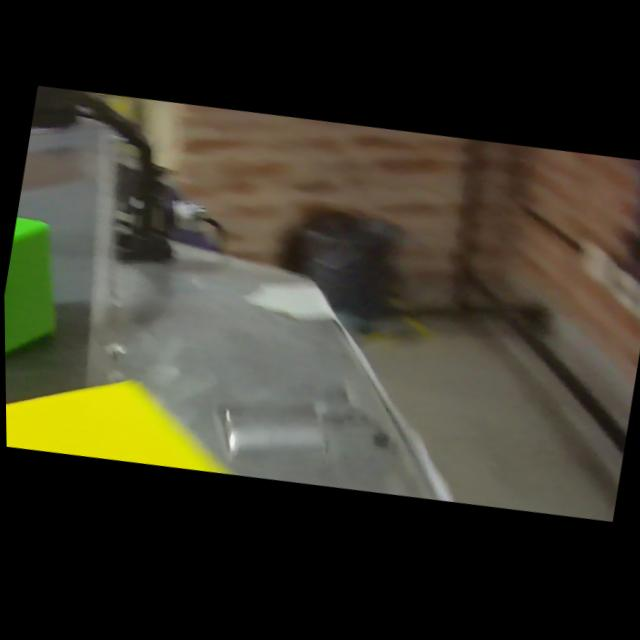greenBox: (2, 208, 81, 374)
redBox: (5, 393, 36, 450)
yellowBox: (4, 342, 284, 492)
